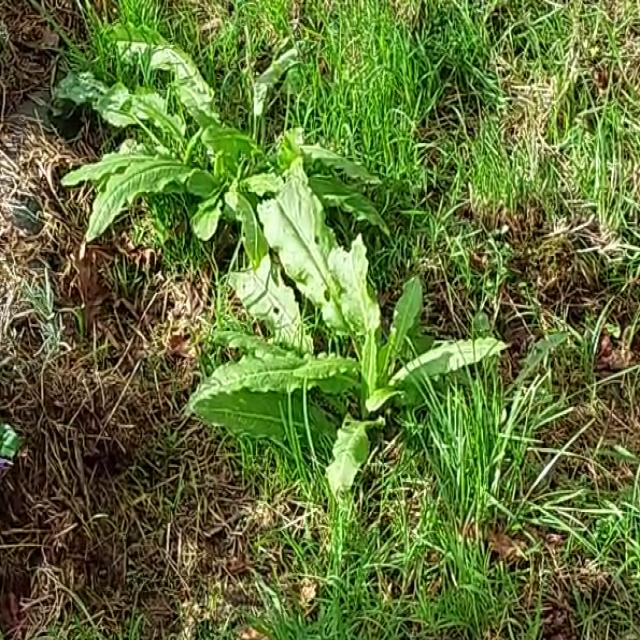organic waste: (198, 188, 523, 494), (72, 26, 367, 308)
